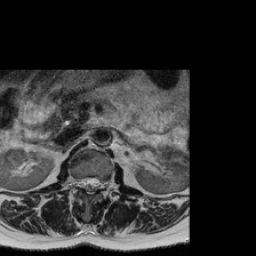CCS_normal: (86, 168, 93, 199)
LFS_normal: (100, 173, 106, 194)
LLS_normal: (93, 169, 100, 195)
RFS_normal: (74, 170, 80, 191)
RLS_normal: (80, 170, 86, 194)
